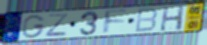3: (78, 10, 99, 37)
B: (134, 7, 159, 33)
F: (103, 8, 129, 35)
G: (21, 14, 47, 39)
H: (159, 4, 187, 33)
Z: (44, 12, 70, 38)
